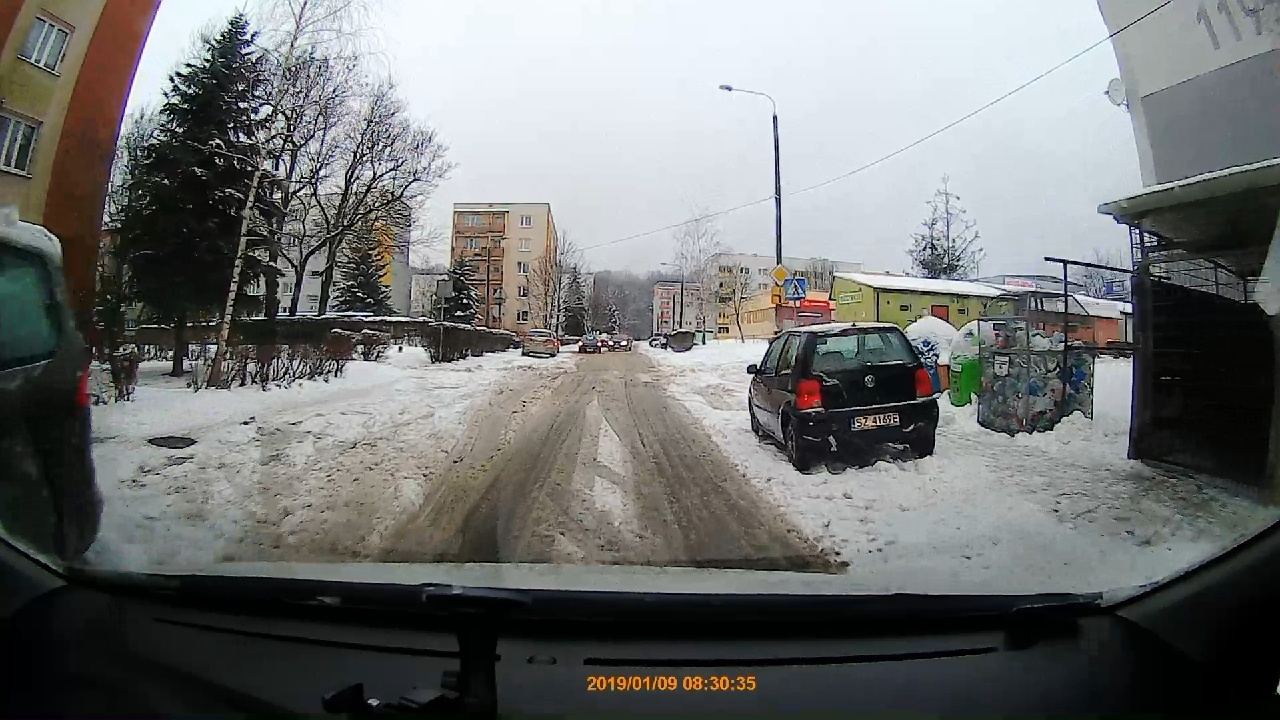D1: (770, 262, 792, 285)
